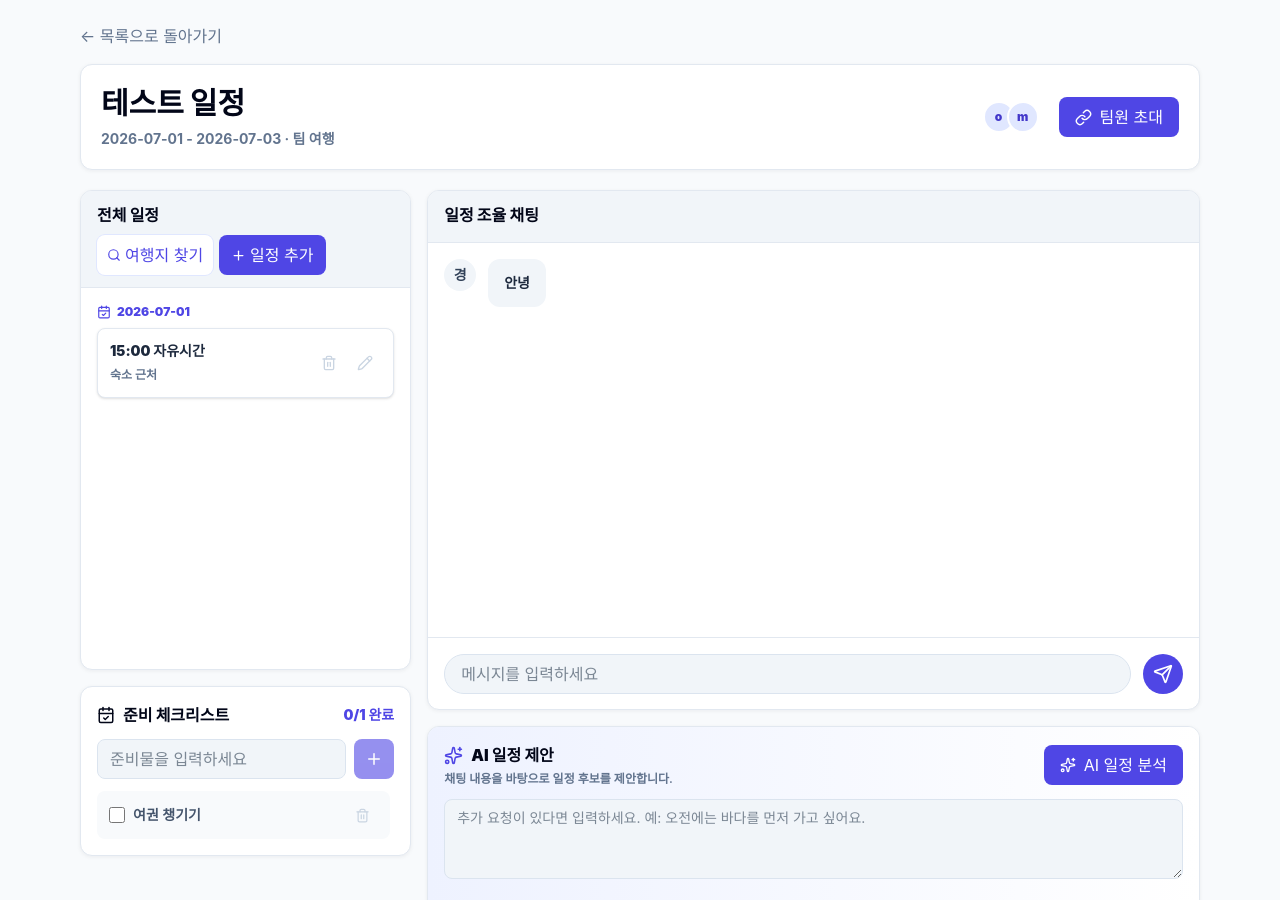
Test: ScheduleDetailPage collaboration controls › shows a no-result notice and toast when manual analysis cannot make suggestions
The width and height of the screenshot is (1280, 900).
Click the button with test id "analyze-trip-chat".
click(1113, 765)  # box [1044,745,1183,785]
(page scrolled)
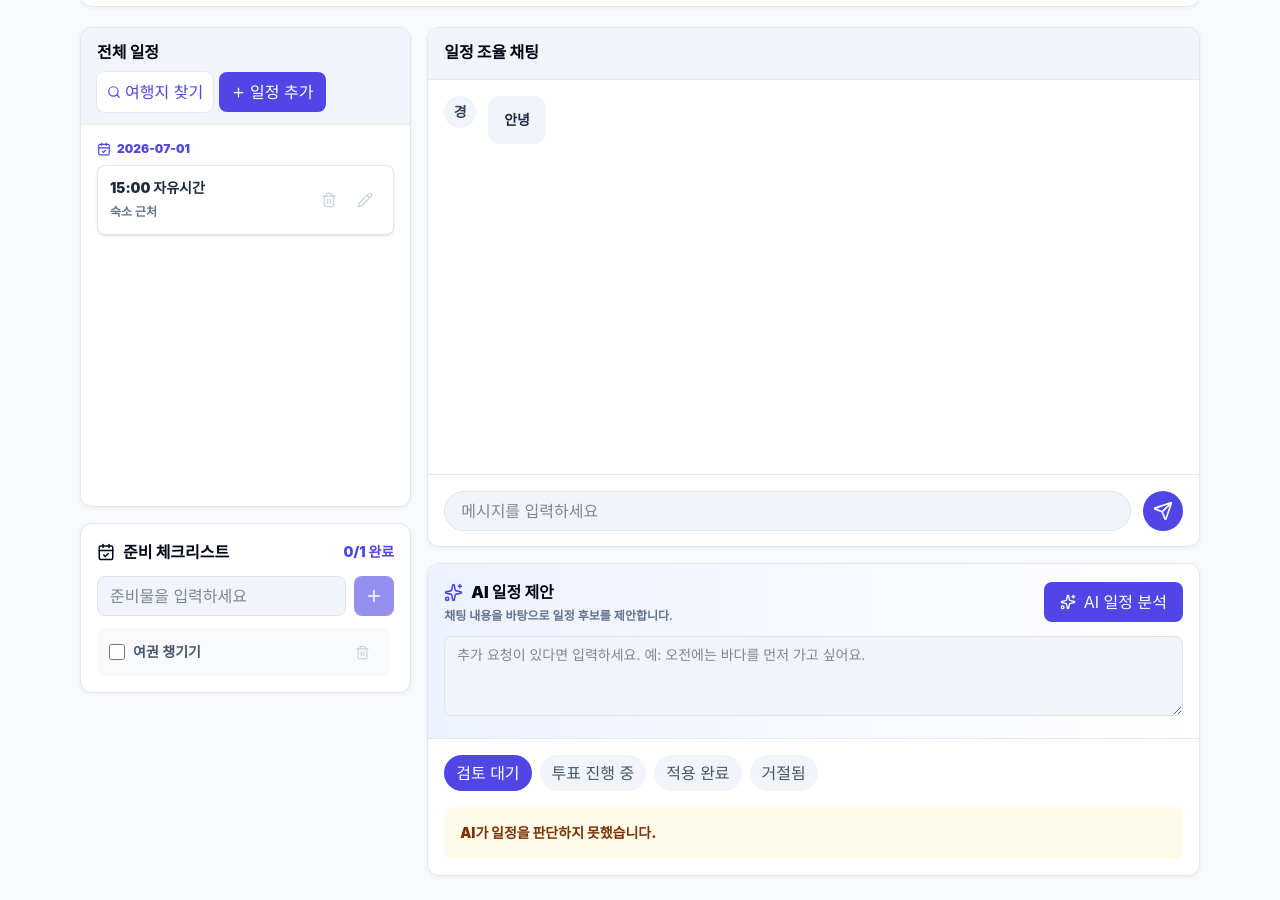
Result: the element with test id "ai-no-result" reads "AI가 일정을 판단하지 못했습니다." at [460,824,656,841]
